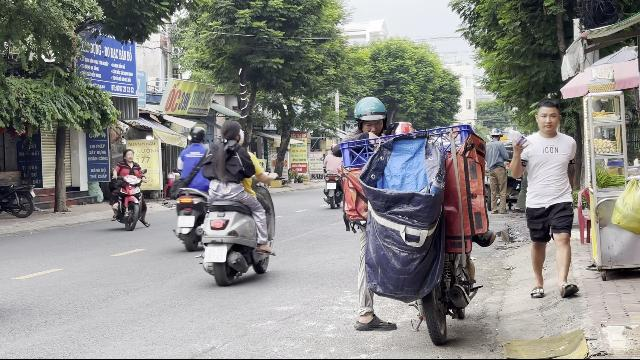helmet: (188, 125, 205, 143)
licenseplate: (204, 246, 226, 262), (178, 216, 195, 226)
motorcyclist: (201, 116, 277, 284), (172, 124, 216, 251), (107, 148, 149, 231)
nohelmet: (219, 120, 243, 144), (122, 148, 134, 162)
